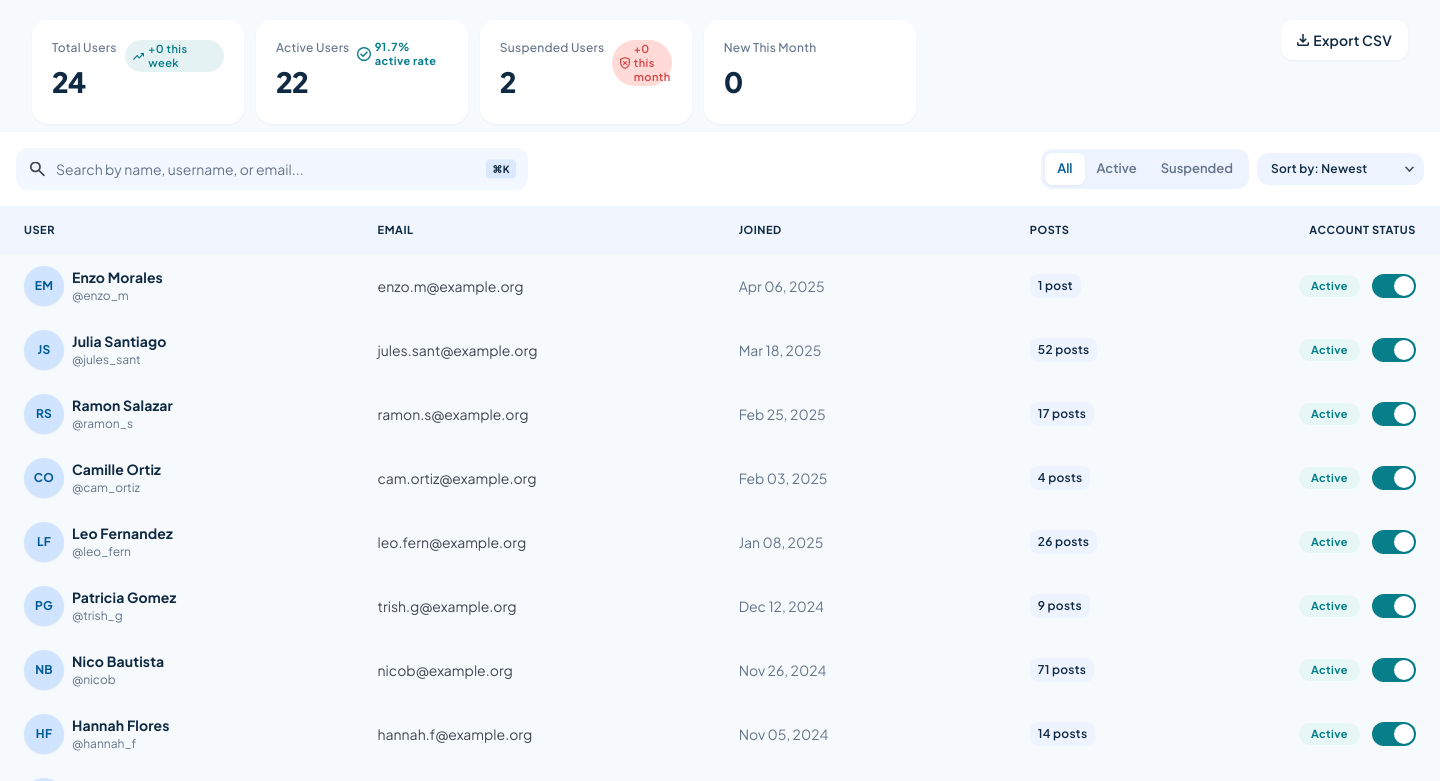
UserManagementScreen › filters to suspended users
The image size is (1440, 781).
Expected: the text "Enzo Morales" is shown, x1=72 y1=267 x2=163 y2=287
Click the button "Suspended" at (1197, 169), box x1=1149 y1=153 x2=1245 y2=185
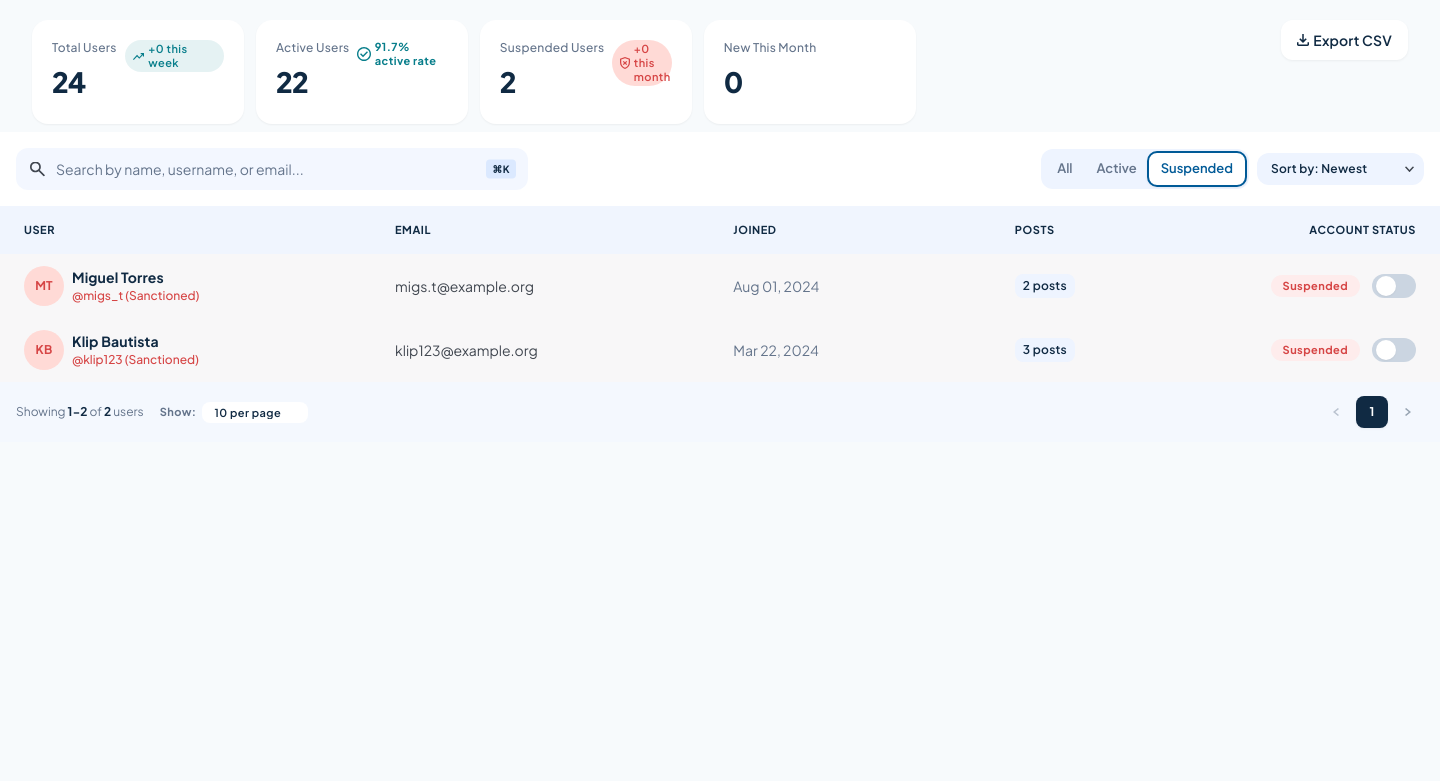
Expected: the text "Klip Bautista" is shown, x1=72 y1=332 x2=159 y2=350
Expected: the text "Enzo Morales" is gone
